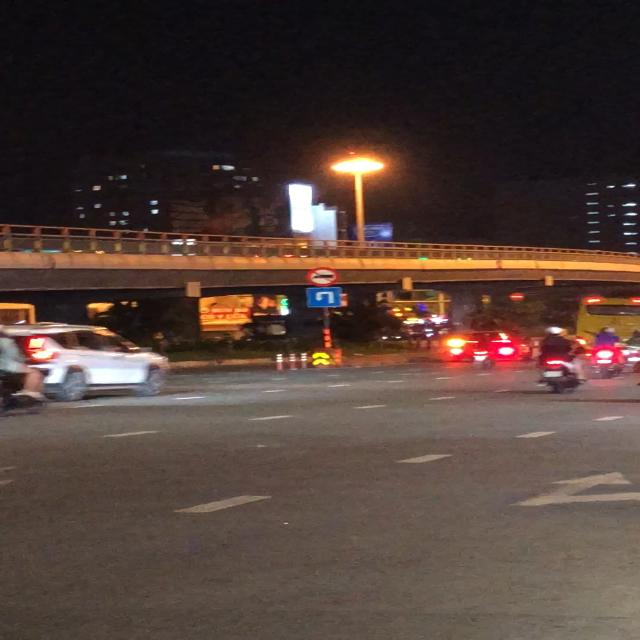Bien bao cam xe so-mi ro-mooc: (306, 267, 340, 288)
